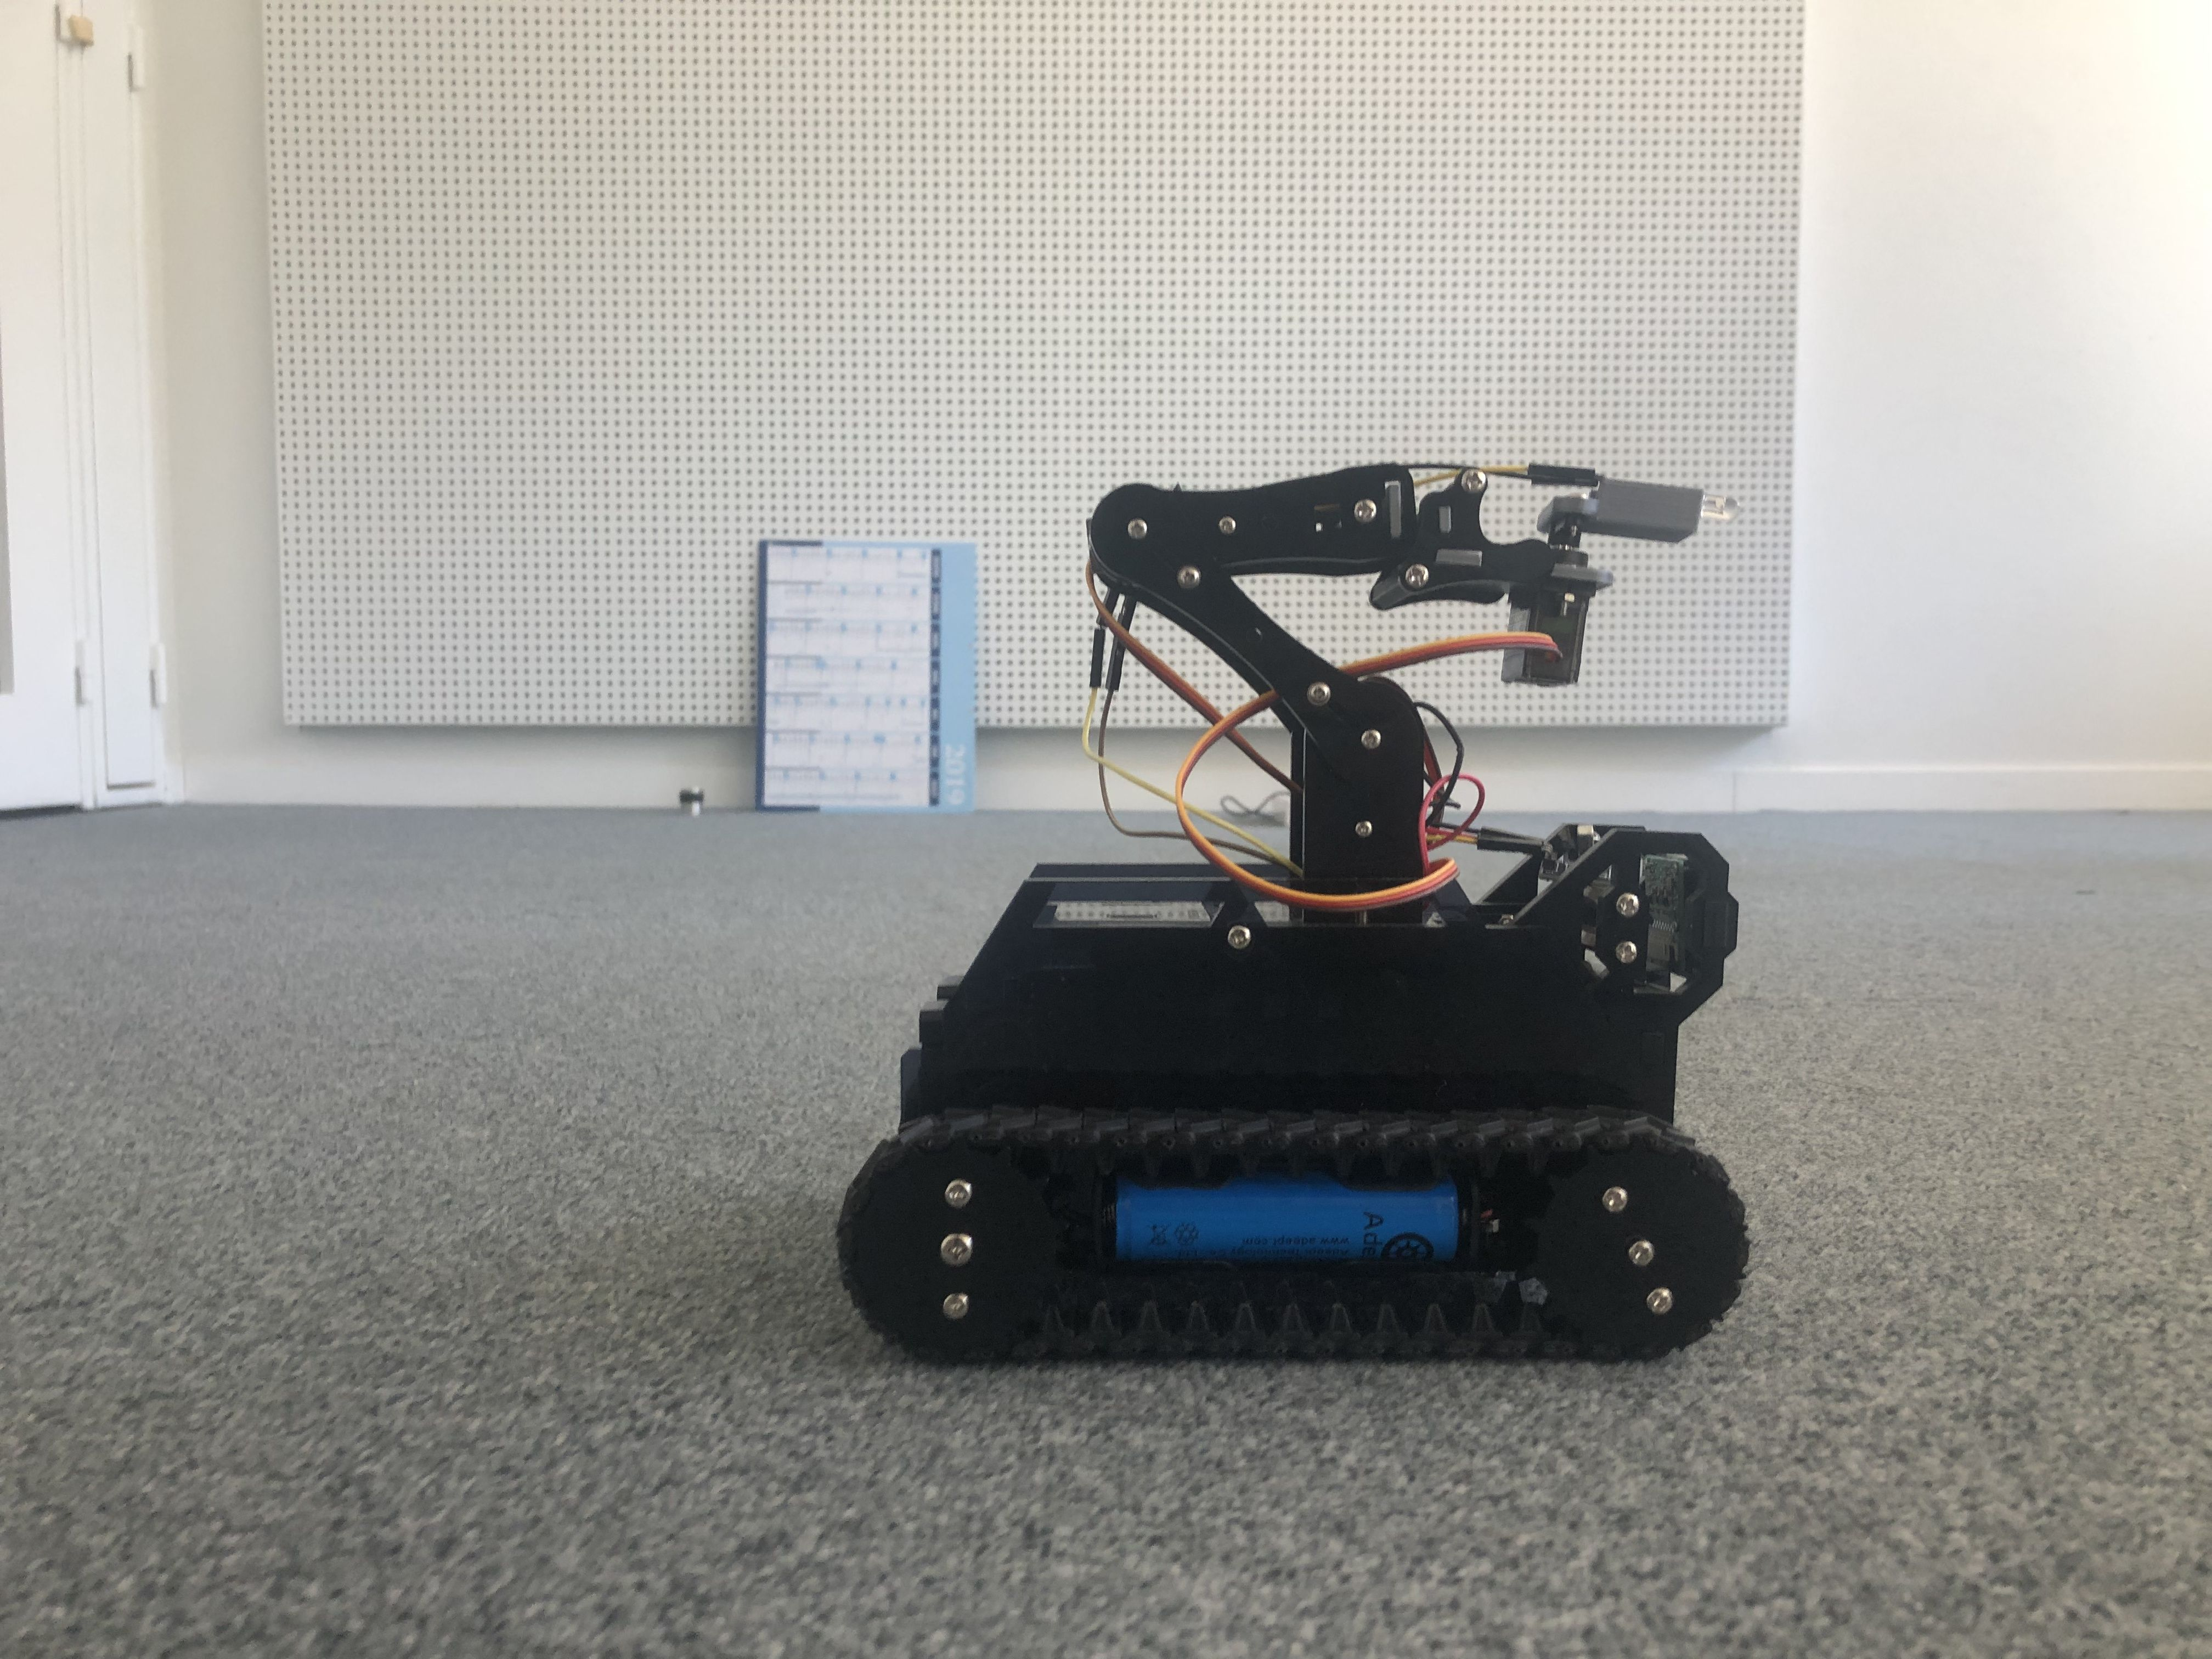rasptank: (834, 437, 1768, 1391)
